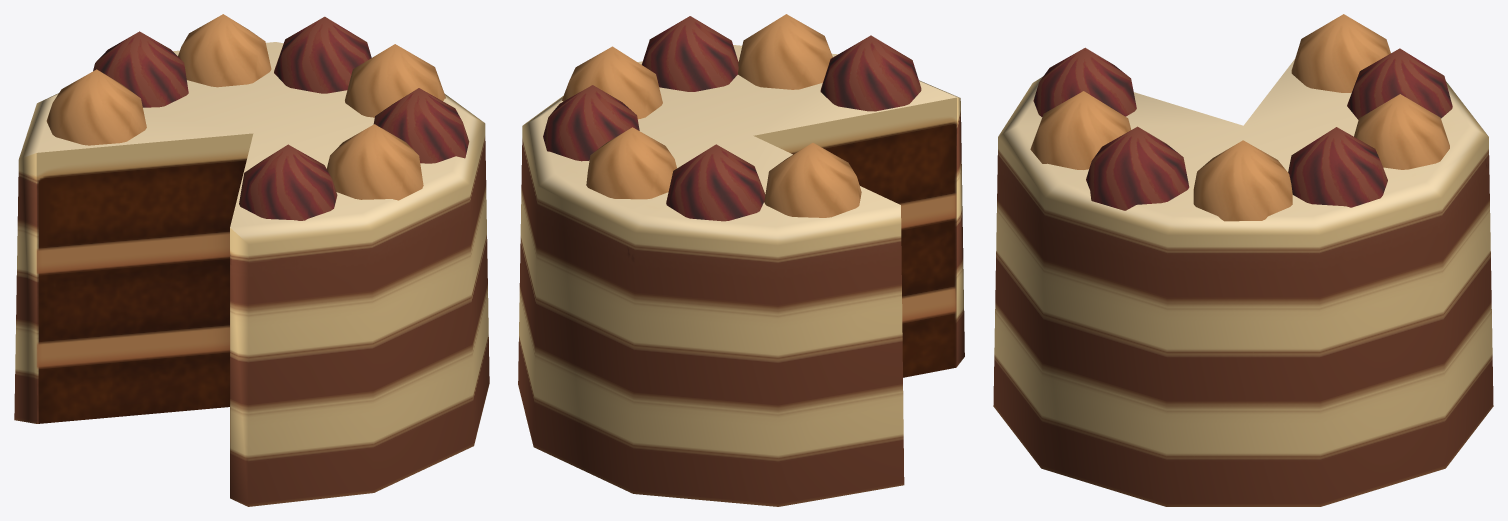
Rendered from StripeCake_Cut.fbx.
3 renders of one model, left to right at view 1: azimuth 30°, elevation 25°; view 2: azimuth 150°, elevation 25°; view 3: azimuth 270°, elevation 25°, orthographic. The views are drawn at different scales.
Parts seen in each view (by area): view 1: StripeCake_Cut; view 2: StripeCake_Cut; view 3: StripeCake_Cut.
Part boxes in pixels (left/top/right/bottom): StripeCake_Cut: left=14, top=14, right=489, bottom=506; StripeCake_Cut: left=518, top=14, right=964, bottom=506; StripeCake_Cut: left=993, top=14, right=1493, bottom=506.
Bounding box in the file's own units: 76.8 × 61 × 81.5.
